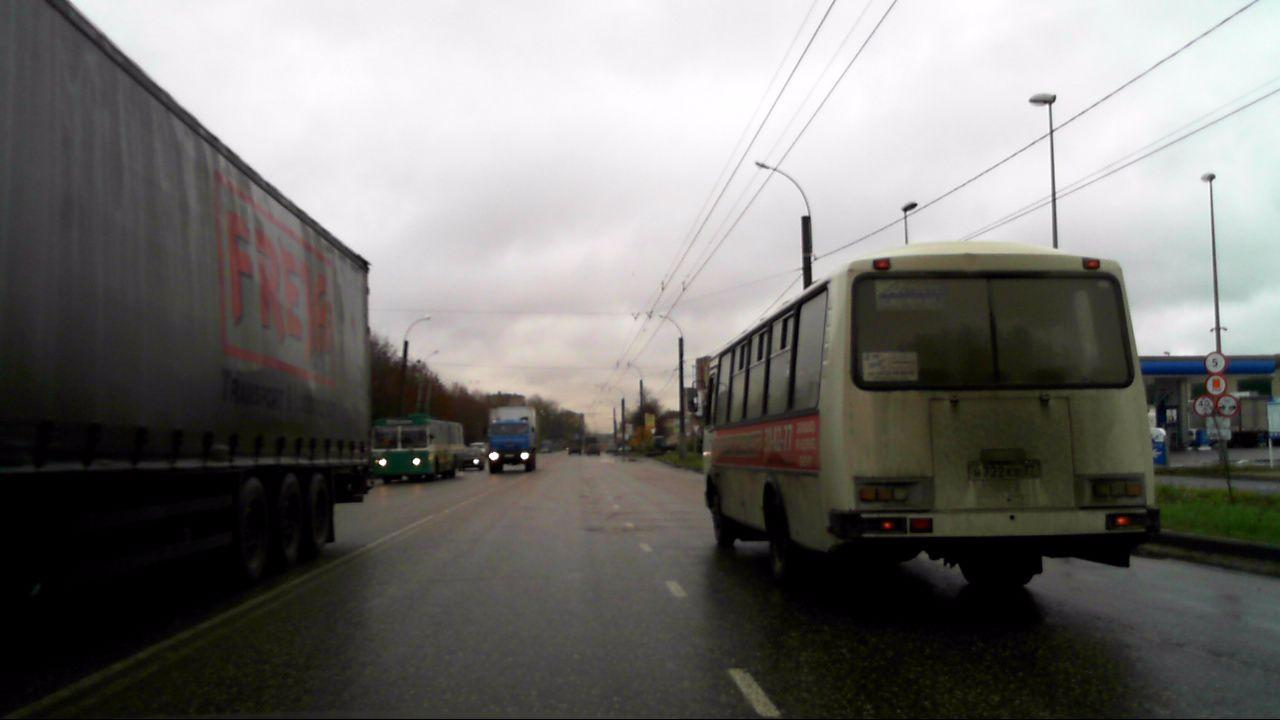3_13: (1193, 396, 1214, 418)
3_16: (1217, 395, 1238, 417)
3_24: (1203, 352, 1226, 374)
3_32: (1204, 375, 1227, 397)
